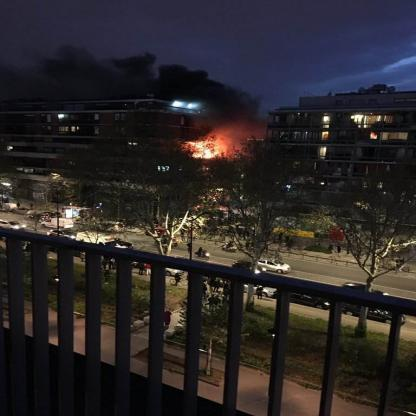fire: (175, 127, 233, 164)
